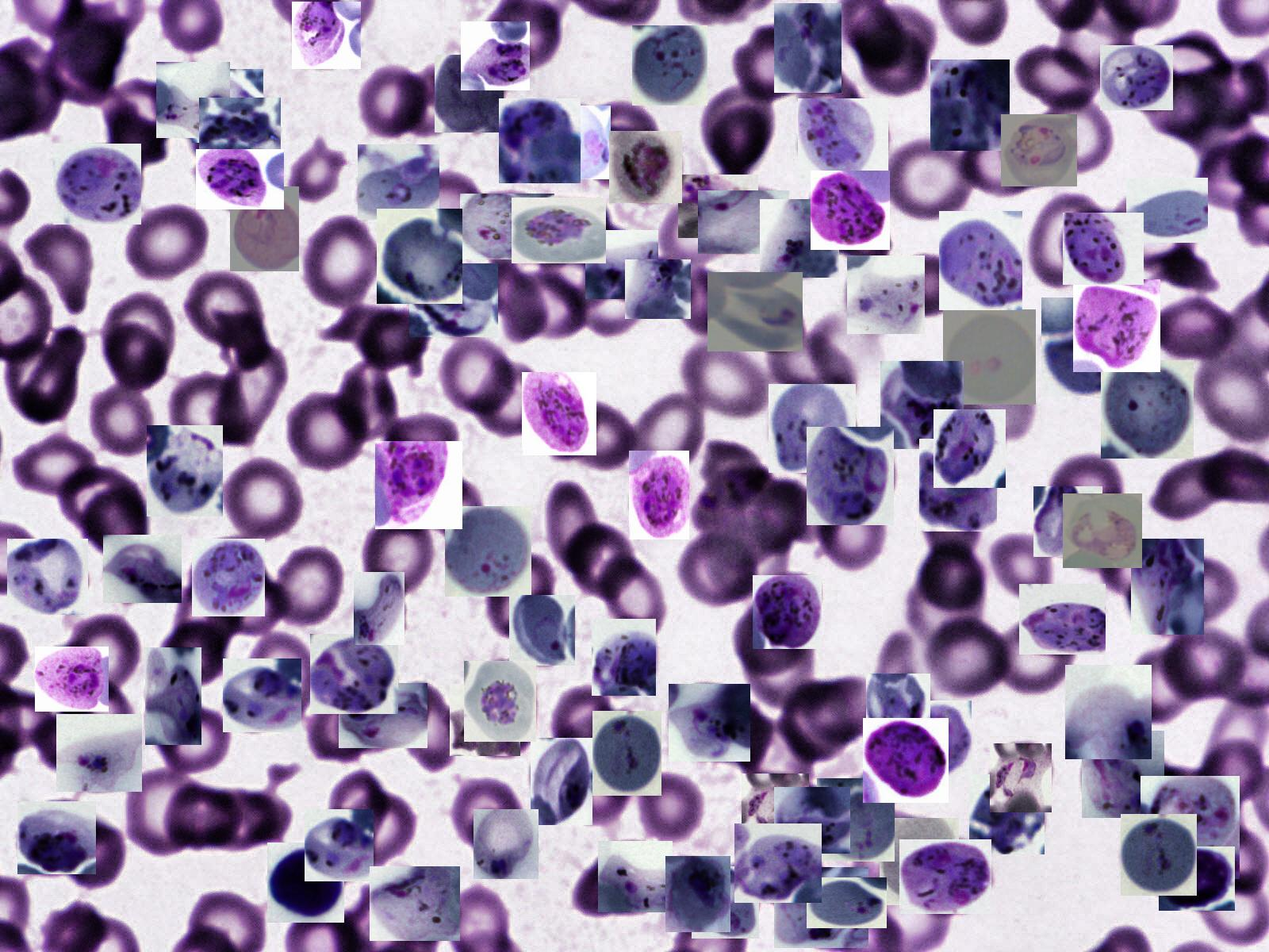Infected: (1041, 298, 1144, 397), (1141, 776, 1240, 879), (694, 466, 799, 562), (1101, 360, 1194, 459), (943, 309, 1036, 405), (807, 427, 894, 525), (939, 211, 1022, 310), (1065, 665, 1152, 759), (1073, 279, 1160, 372), (377, 209, 462, 304), (445, 506, 531, 597), (769, 384, 856, 473), (375, 441, 462, 529), (774, 867, 868, 948), (707, 272, 803, 351), (798, 98, 888, 181), (880, 361, 964, 449), (930, 59, 1010, 151), (863, 718, 949, 803), (919, 439, 997, 532), (1082, 731, 1164, 818), (53, 144, 141, 225), (310, 634, 398, 714), (734, 823, 822, 903), (1131, 539, 1204, 635), (499, 98, 581, 183), (147, 425, 223, 516), (899, 839, 991, 914), (880, 818, 959, 905), (370, 866, 460, 941), (56, 714, 142, 792), (409, 263, 498, 337), (817, 778, 895, 862), (669, 684, 750, 762), (811, 171, 890, 250), (760, 199, 839, 278), (1121, 814, 1197, 896), (847, 255, 925, 334), (267, 843, 344, 923), (358, 144, 439, 220), (7, 539, 88, 615), (522, 372, 596, 455), (774, 3, 842, 93), (460, 194, 554, 259), (512, 198, 606, 263), (1019, 584, 1106, 654), (969, 774, 1045, 854), (632, 25, 707, 106), (199, 98, 281, 172), (1063, 493, 1142, 568), (230, 186, 299, 271), (592, 711, 661, 796), (464, 661, 536, 742), (1063, 213, 1144, 285), (698, 190, 789, 254), (223, 658, 301, 732), (17, 801, 96, 874), (339, 684, 427, 749), (897, 701, 972, 777), (934, 409, 1006, 488), (156, 62, 230, 138), (192, 539, 265, 616), (145, 647, 201, 745), (1001, 114, 1077, 186), (866, 674, 930, 758), (103, 535, 182, 603), (1126, 178, 1208, 243), (598, 841, 673, 912), (435, 55, 504, 132), (531, 738, 592, 825), (629, 451, 689, 539), (196, 149, 284, 209), (539, 106, 611, 179), (609, 131, 682, 203), (192, 69, 263, 143), (753, 575, 822, 649), (774, 787, 850, 854), (678, 175, 758, 238), (450, 684, 520, 756), (585, 230, 658, 299), (305, 809, 374, 881), (692, 866, 760, 939), (665, 856, 730, 932), (1159, 846, 1235, 911), (592, 619, 656, 696), (1033, 486, 1102, 557), (35, 647, 109, 712), (461, 21, 530, 90), (1100, 45, 1173, 110), (509, 595, 575, 666), (292, 2, 361, 69), (473, 809, 539, 879), (742, 774, 809, 839), (990, 743, 1052, 812), (807, 877, 887, 928), (625, 259, 691, 319), (354, 572, 404, 645)
Uninfected: (1027, 192, 1117, 290), (300, 211, 386, 311), (698, 83, 780, 185), (882, 138, 979, 222), (988, 605, 1077, 696), (925, 614, 1013, 703), (263, 541, 350, 631), (219, 455, 304, 547), (681, 340, 776, 421), (213, 343, 293, 439), (241, 631, 323, 724), (124, 200, 211, 286), (358, 509, 437, 603), (577, 102, 658, 190), (288, 387, 369, 473), (11, 433, 106, 506), (469, 355, 550, 440), (658, 194, 752, 267), (745, 611, 816, 707), (481, 547, 555, 639), (182, 266, 263, 350), (168, 367, 251, 447), (776, 677, 854, 762), (769, 332, 854, 410), (25, 217, 93, 314), (439, 332, 517, 416), (633, 386, 704, 478), (1015, 40, 1102, 115), (63, 611, 141, 694), (355, 63, 439, 140), (558, 709, 638, 789), (1033, 94, 1112, 175), (125, 769, 196, 858), (963, 121, 1044, 198), (4, 339, 79, 422), (1127, 647, 1202, 730), (580, 255, 658, 334), (886, 248, 968, 323), (374, 409, 458, 482), (1164, 631, 1249, 702), (1050, 451, 1126, 530), (558, 397, 637, 473), (816, 491, 890, 572), (854, 22, 932, 98), (677, 533, 756, 608), (86, 377, 159, 458), (101, 75, 183, 147), (922, 470, 981, 570), (551, 684, 618, 771), (796, 60, 866, 143), (504, 270, 587, 340), (477, 261, 547, 344), (446, 774, 523, 849), (339, 355, 399, 451), (915, 540, 986, 620), (395, 680, 455, 774), (339, 791, 415, 865), (105, 290, 178, 367), (734, 598, 805, 676), (397, 65, 475, 136), (59, 460, 138, 530), (733, 21, 803, 100), (629, 770, 704, 843), (1149, 455, 1234, 519), (203, 565, 285, 631), (600, 555, 665, 638), (151, 701, 224, 773), (1164, 555, 1240, 624), (567, 524, 638, 597), (569, 856, 650, 919), (1149, 299, 1234, 359), (859, 4, 937, 69), (803, 674, 876, 743), (544, 481, 600, 570), (167, 780, 241, 847), (307, 689, 374, 762), (33, 705, 100, 777), (151, 623, 227, 686), (429, 470, 491, 547), (1098, 536, 1175, 598), (328, 771, 388, 850), (60, 820, 127, 890), (405, 171, 477, 236), (1198, 736, 1260, 811), (63, 681, 131, 749), (80, 492, 149, 559), (103, 323, 169, 393), (206, 791, 285, 849), (707, 698, 771, 769), (1124, 756, 1186, 828), (355, 308, 431, 366), (990, 534, 1055, 601), (564, 762, 629, 828), (286, 137, 349, 202), (1209, 828, 1266, 894), (676, 271, 736, 333)
